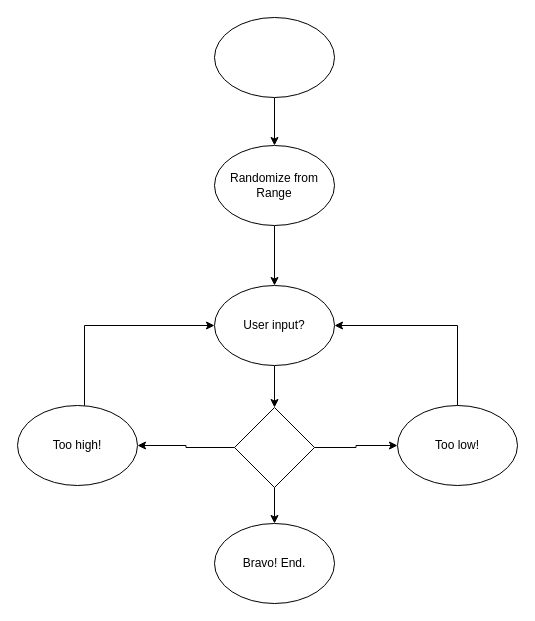
This 535x621 diagram has some shape labels left out. The centre of each missing label's shape, as x and y in pixels:
"User input vs Secret Number" goes at point 274,447.
"Welcome. Range is..." goes at point 274,57.
